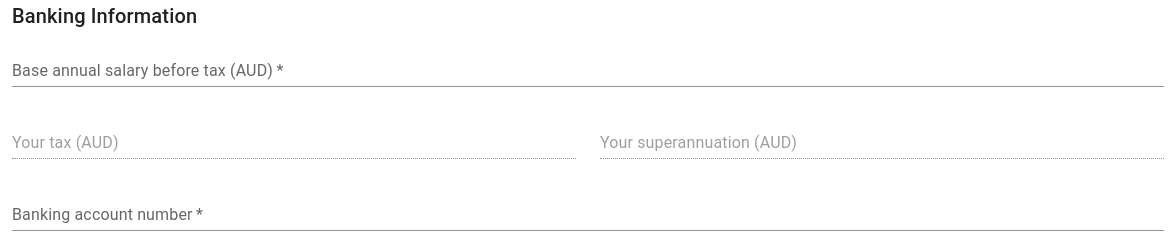
Calculation › When salary is -100
In the number field with test id "salary-input": (588,71) [12,55,1164,87], type "-100"
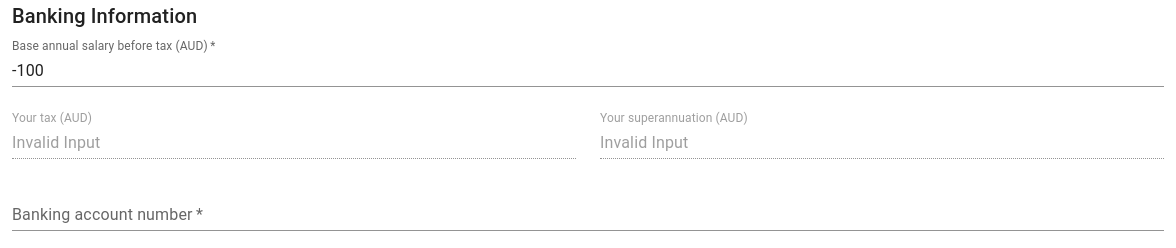
Expected: the field with test id "tax" holds "Invalid Input", [12,127,576,159]
Expected: the field with test id "super" holds "Invalid Input", [600,127,1164,159]
